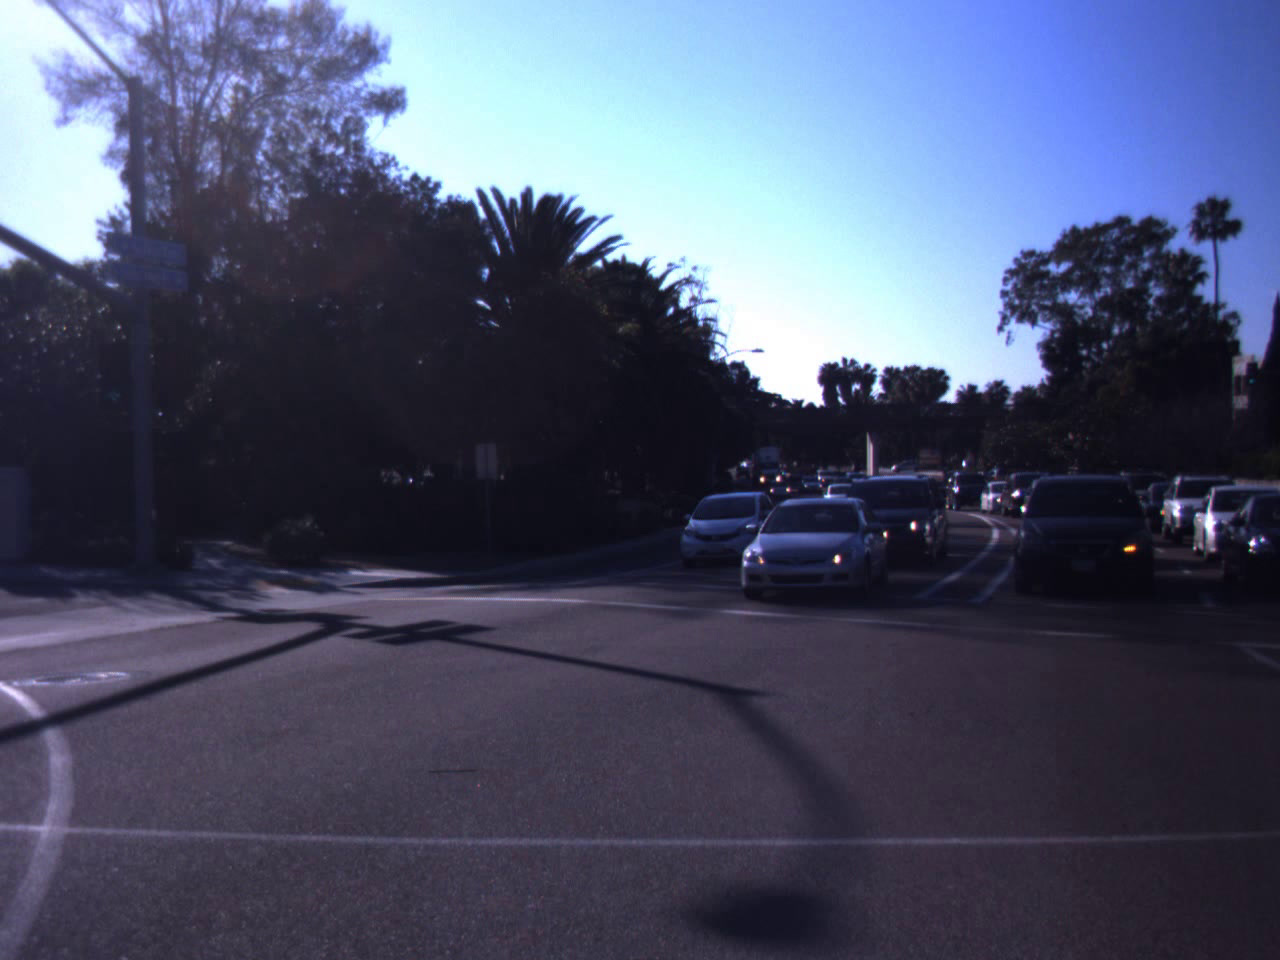go: (90, 345, 141, 405)
